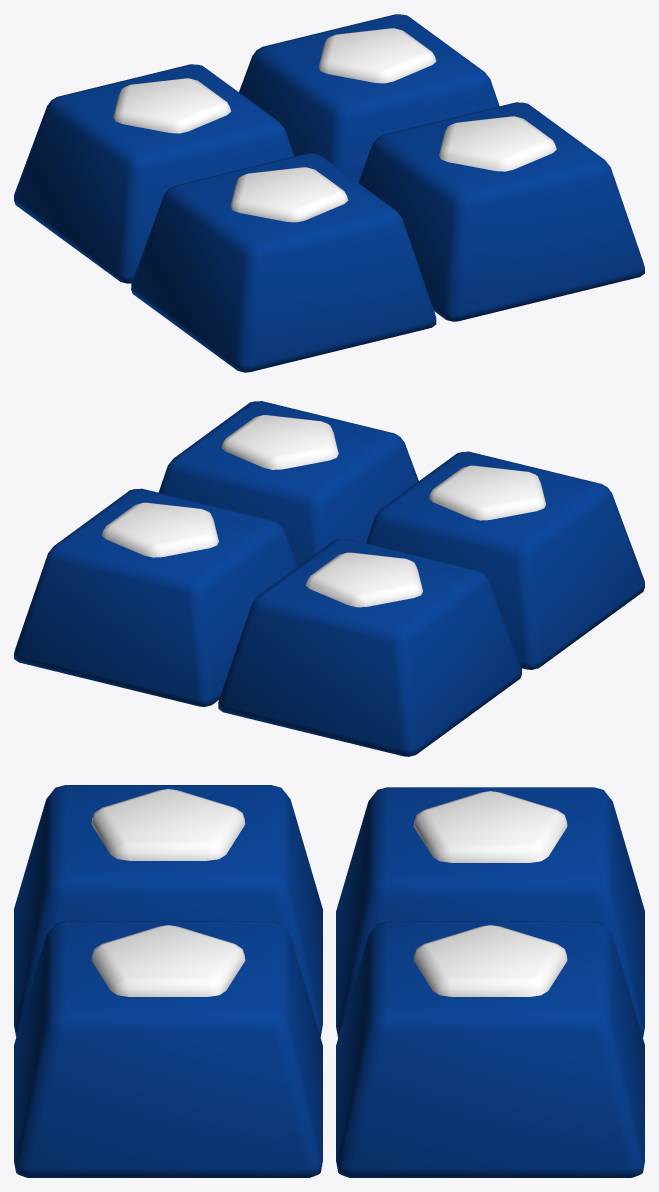
Rendered from block piece_low poly.fbx.
The picture shows the model from 3 angles, top to bottom: view 1: azimuth 30°, elevation 25°; view 2: azimuth 150°, elevation 25°; view 3: azimuth 270°, elevation 25°; orthographic projection. The views are drawn at different scales.
Visible parts, largest first — view 1: Cube.063; view 2: Cube.063; view 3: Cube.063.
Part boxes in pixels (bbox=[...]): Cube.063: bbox=[14, 14, 644, 372]; Cube.063: bbox=[14, 401, 644, 756]; Cube.063: bbox=[14, 785, 644, 1177].
Bounding box in the file's own units: 7.84 × 27.17 × 27.17.
